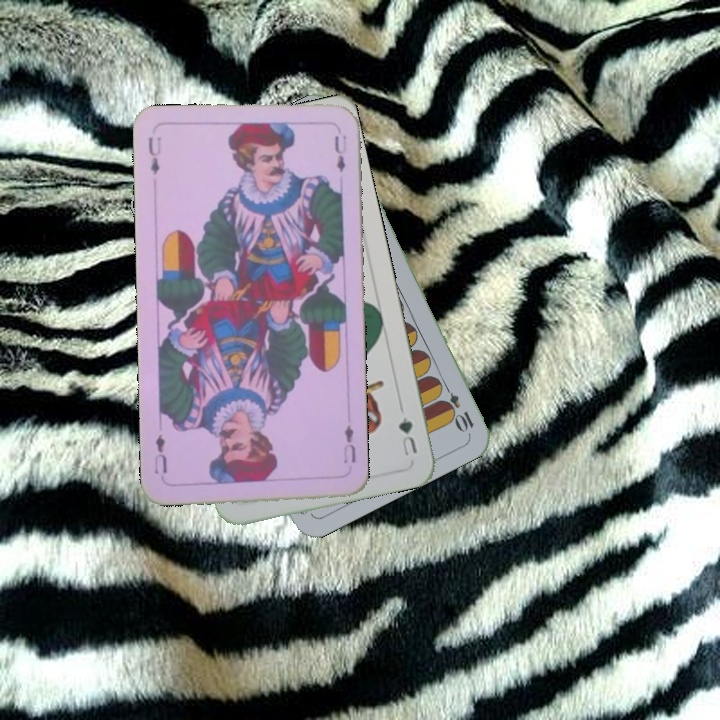E10: (437, 378, 477, 434)
EU: (339, 421, 359, 466), (144, 133, 164, 177)
GU: (394, 412, 420, 459)
